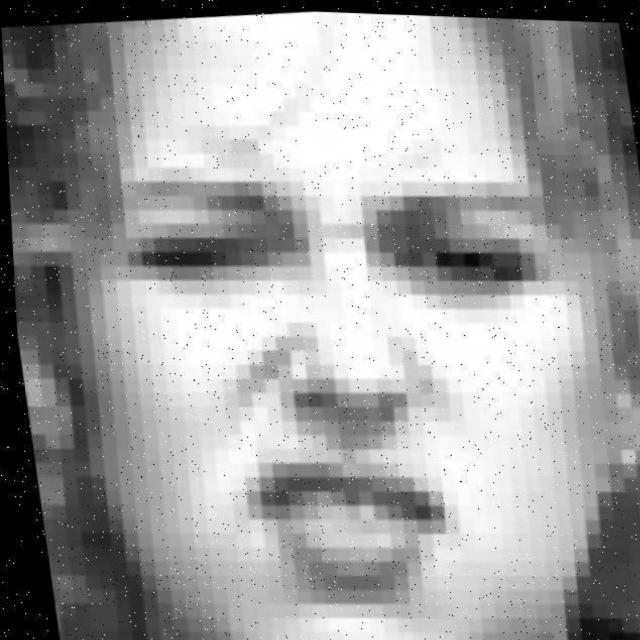Disgust: (36, 31, 640, 640)
